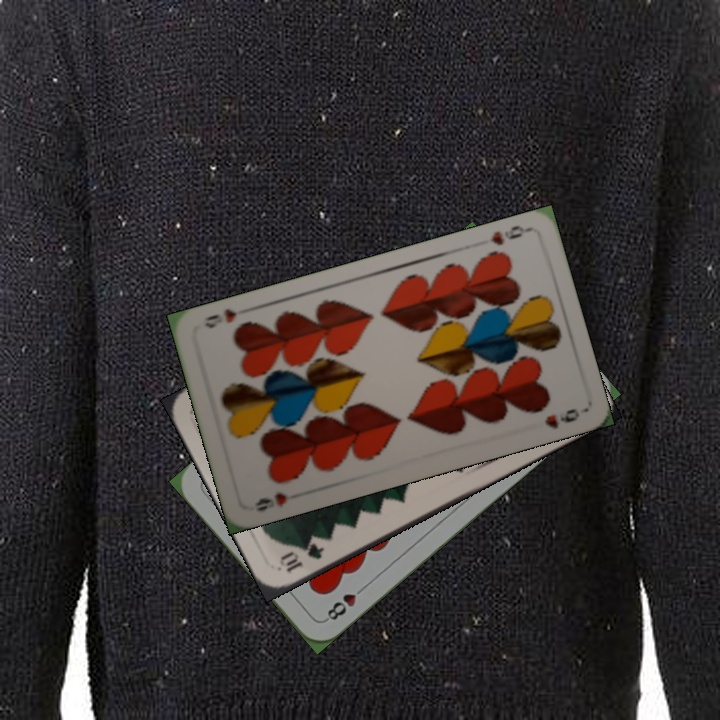G10: (275, 538, 327, 575)
H8: (320, 581, 369, 624)
H9: (486, 221, 531, 248), (251, 488, 290, 514)
